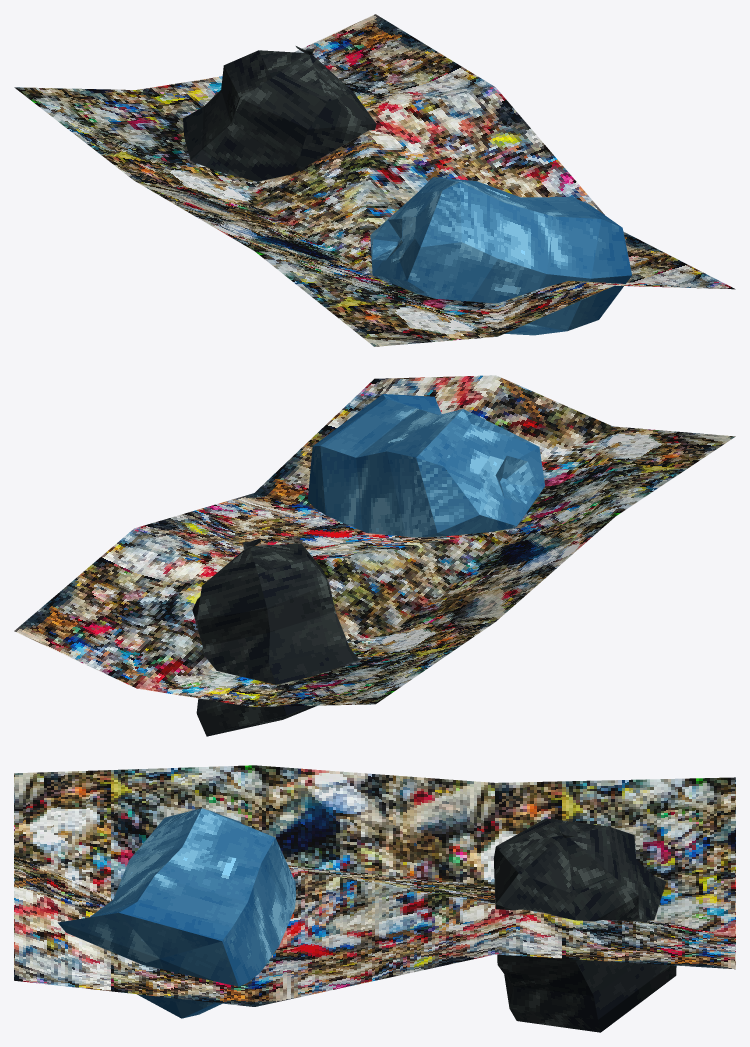
The model's file is dumpster_trashpile_2.glb.
3 views of the same model, one above another, from view 1: azimuth 30°, elevation 25°; view 2: azimuth 150°, elevation 25°; view 3: azimuth 270°, elevation 25° (orthographic).
Parts seen in each view (by area): view 1: dumpster_trashpile_2; view 2: dumpster_trashpile_2; view 3: dumpster_trashpile_2.
Boxes of the visible parts, x1,y1,x2,y2 form: dumpster_trashpile_2: (14, 14, 735, 346); dumpster_trashpile_2: (14, 375, 735, 736); dumpster_trashpile_2: (14, 765, 735, 1032).
Bounding box in the file's own units: 1.85 × 0.9863 × 3.2.
Materials: 2 (2 with a texture image).
